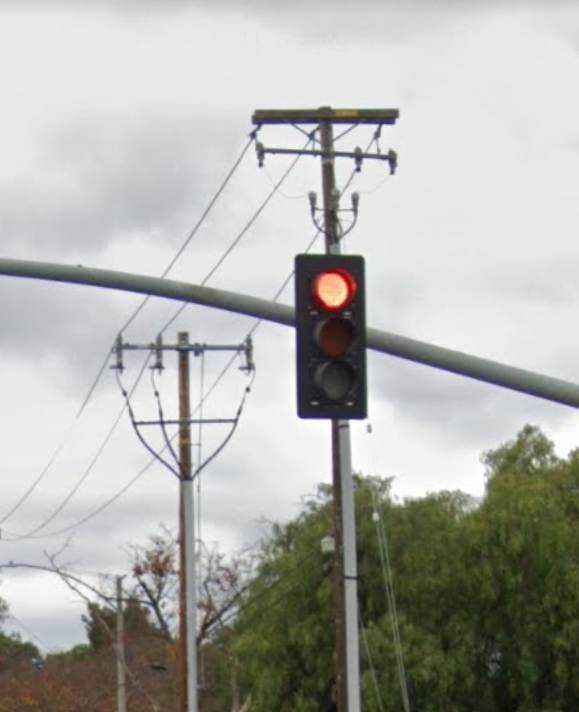red_light: (300, 262, 366, 417)
